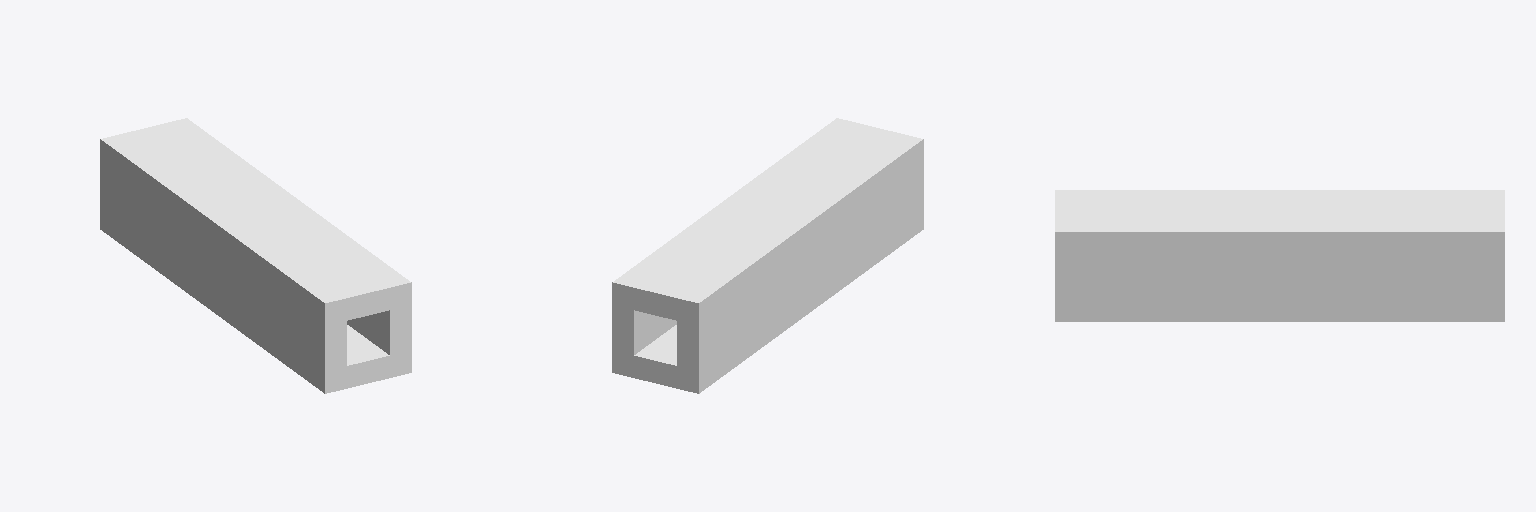
File: log2.obj
The picture shows the model from 3 angles: view 1: azimuth 30°, elevation 25°; view 2: azimuth 150°, elevation 25°; view 3: azimuth 270°, elevation 25°; orthographic projection.
Parts seen in each view (by area): view 1: log2; view 2: log2; view 3: log2.
Part boxes in pixels (x1,y1,x2,y2): log2: (100,118,411,393); log2: (612,118,923,393); log2: (1055,190,1504,321).
Bounding box in the file's own units: 4 × 4 × 18.